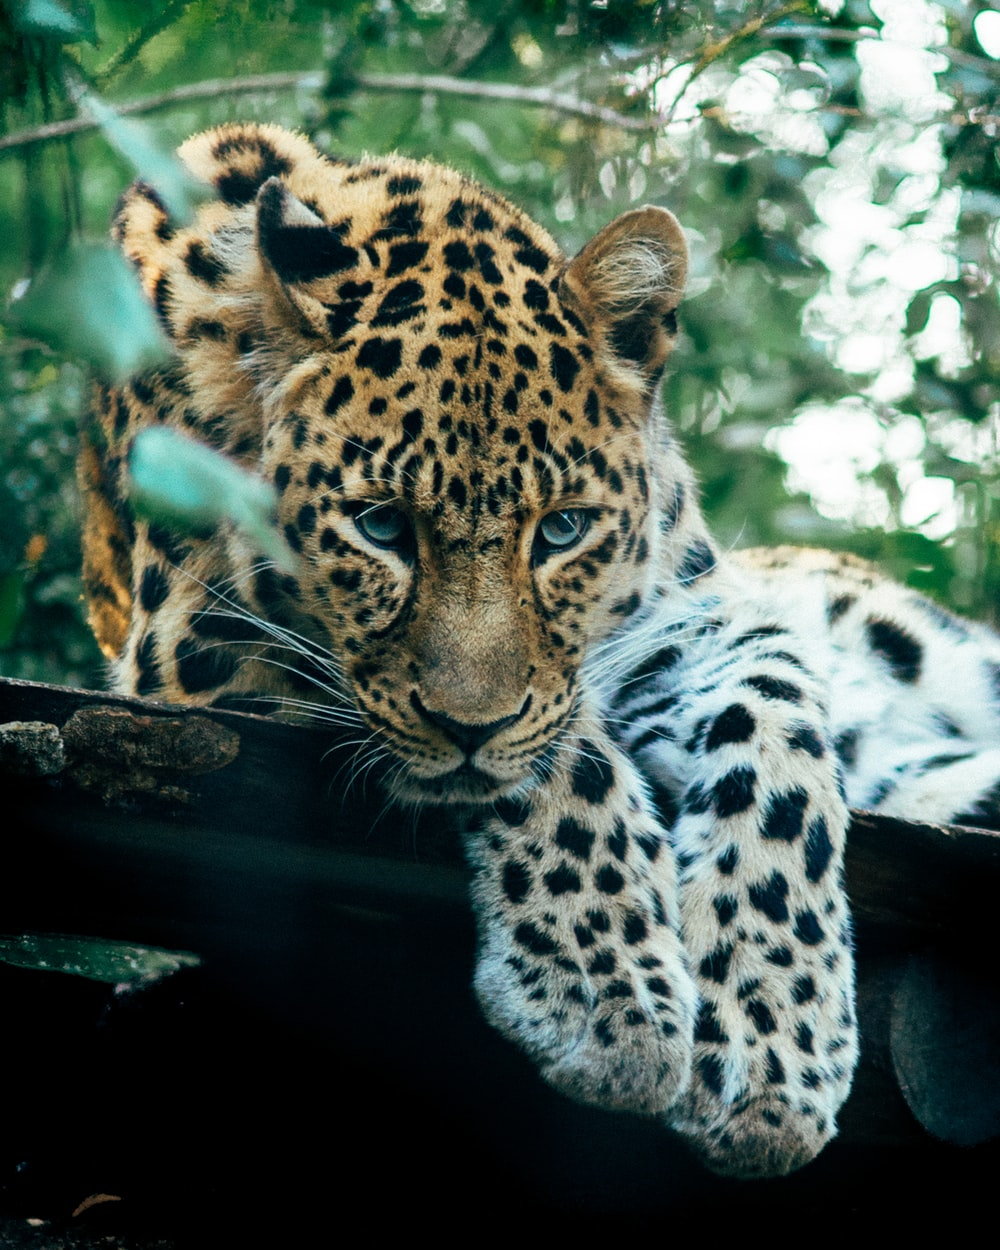amur_leopard: (99, 63, 980, 1180)
